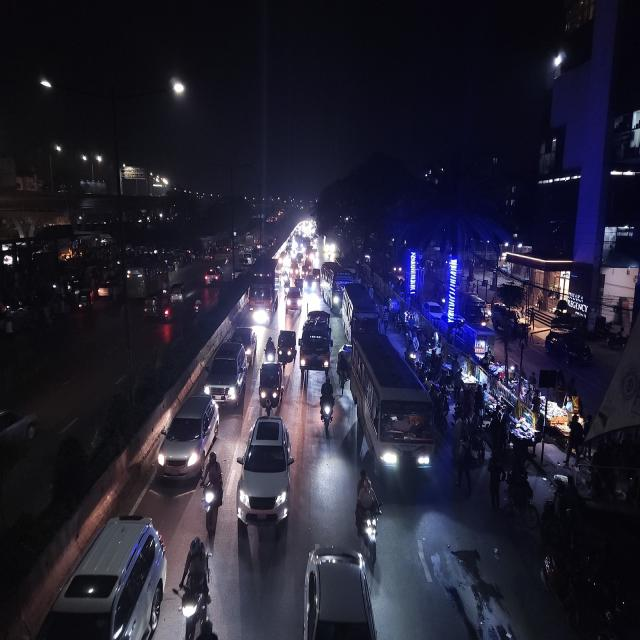bus: (349, 328, 439, 484), (342, 279, 381, 335), (320, 263, 347, 310), (126, 266, 169, 294)
car: (33, 508, 168, 640), (236, 416, 295, 532), (301, 545, 373, 640), (154, 392, 221, 482), (205, 338, 250, 412), (283, 288, 304, 314), (200, 268, 223, 287), (162, 296, 176, 327)
cng: (258, 362, 284, 416), (278, 328, 297, 364), (144, 300, 158, 318), (173, 281, 185, 302)
motorcycle: (175, 535, 212, 634), (354, 468, 386, 569), (202, 453, 226, 533), (318, 378, 337, 432), (192, 297, 204, 320), (266, 336, 275, 363)
truck: (298, 310, 333, 376), (248, 254, 281, 324)
